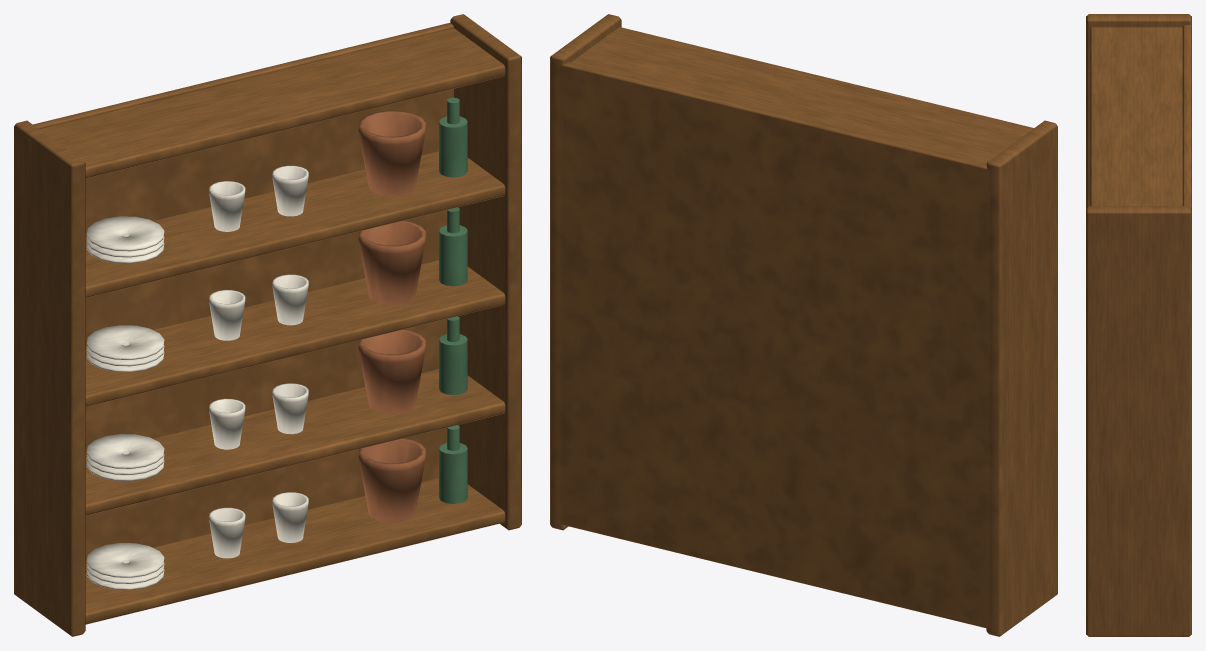
Rendered from Furn_DishShelf.fbx.
The picture shows the model from 3 angles, left to right: view 1: azimuth 30°, elevation 25°; view 2: azimuth 150°, elevation 25°; view 3: azimuth 270°, elevation 25°; orthographic projection. The views are drawn at different scales.
Visible parts, largest first — view 1: Furn_DishShelf_Mesh; view 2: Furn_DishShelf_Mesh; view 3: Furn_DishShelf_Mesh.
Boxes of the visible parts, bbox=[...] form: Furn_DishShelf_Mesh: bbox=[14, 14, 521, 636]; Furn_DishShelf_Mesh: bbox=[550, 14, 1057, 636]; Furn_DishShelf_Mesh: bbox=[1086, 14, 1191, 636].
Bounding box in the file's own units: 2 × 2 × 0.45.
4 materials, 4 textured.
